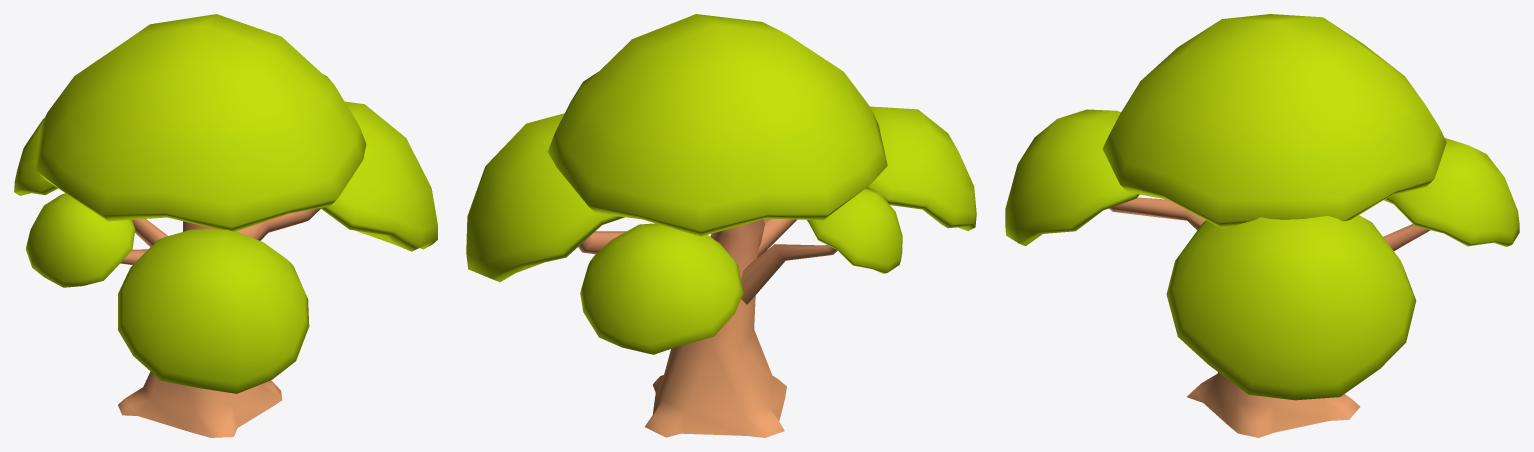
Rendered from Tree9.FBX.
3 views of the same model, side by side, from view 1: azimuth 30°, elevation 25°; view 2: azimuth 150°, elevation 25°; view 3: azimuth 270°, elevation 25° (orthographic).
Visible parts, largest first — view 1: Tree9; view 2: Tree9; view 3: Tree9.
Part boxes in pixels (bbox=[...]): Tree9: bbox=[14, 14, 437, 437]; Tree9: bbox=[466, 14, 976, 437]; Tree9: bbox=[1005, 14, 1519, 437].
Bounding box in the file's own units: 661 × 600 × 734.
